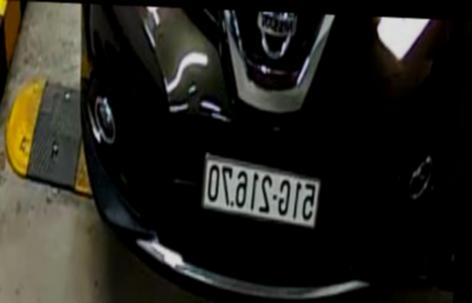License_Plate: (191, 159, 330, 228)
